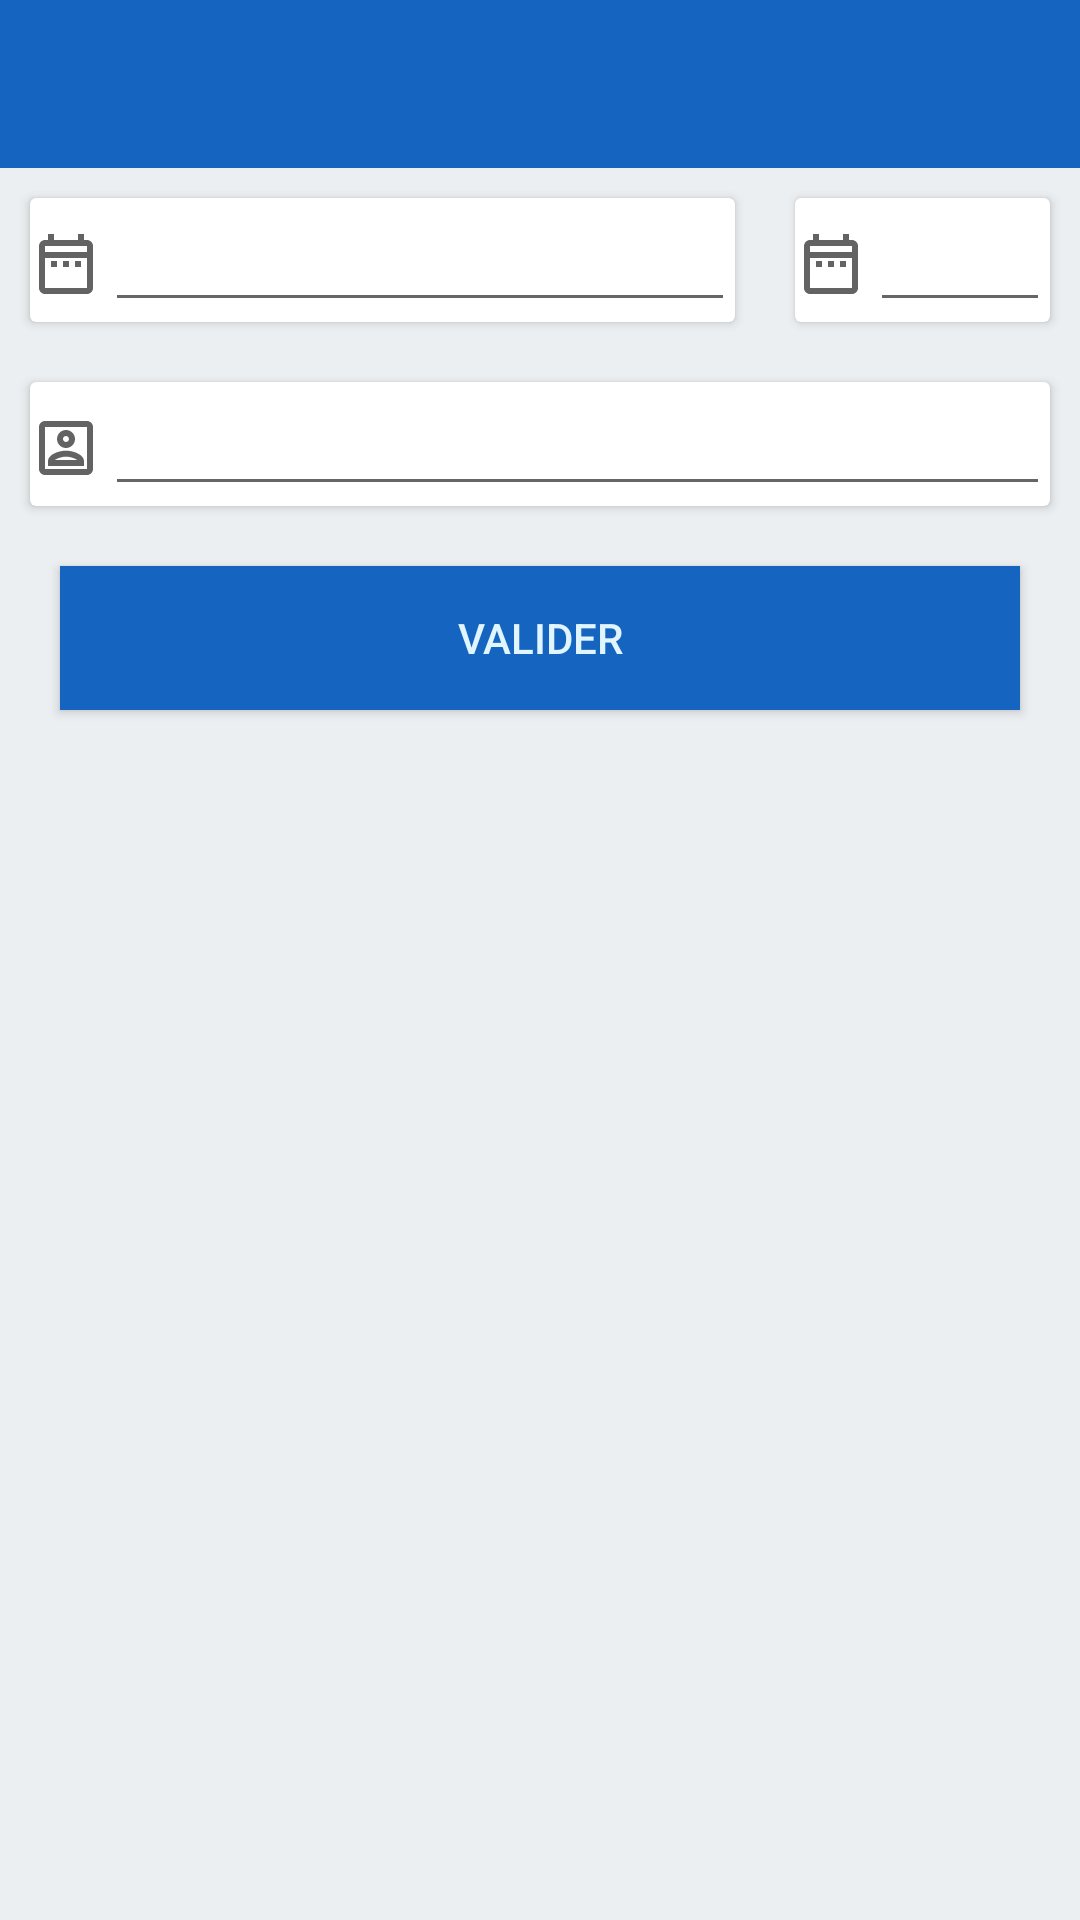

Named icons in this screenshot (1080 × 1920) and their centers, point (x, y):
account box: point (66, 448)
date range: point (66, 264), point (831, 264)
